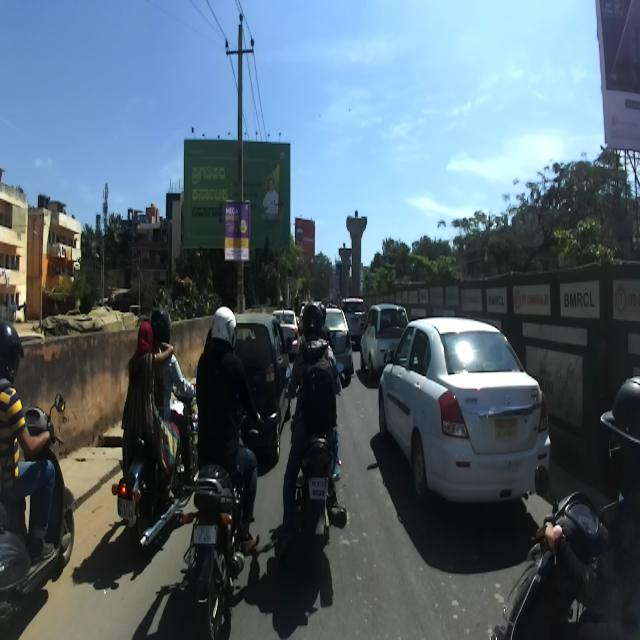car ahead at: (376, 314, 553, 508)
motorcycle ahead at: (185, 455, 249, 640), (110, 431, 183, 561), (294, 434, 346, 578)
